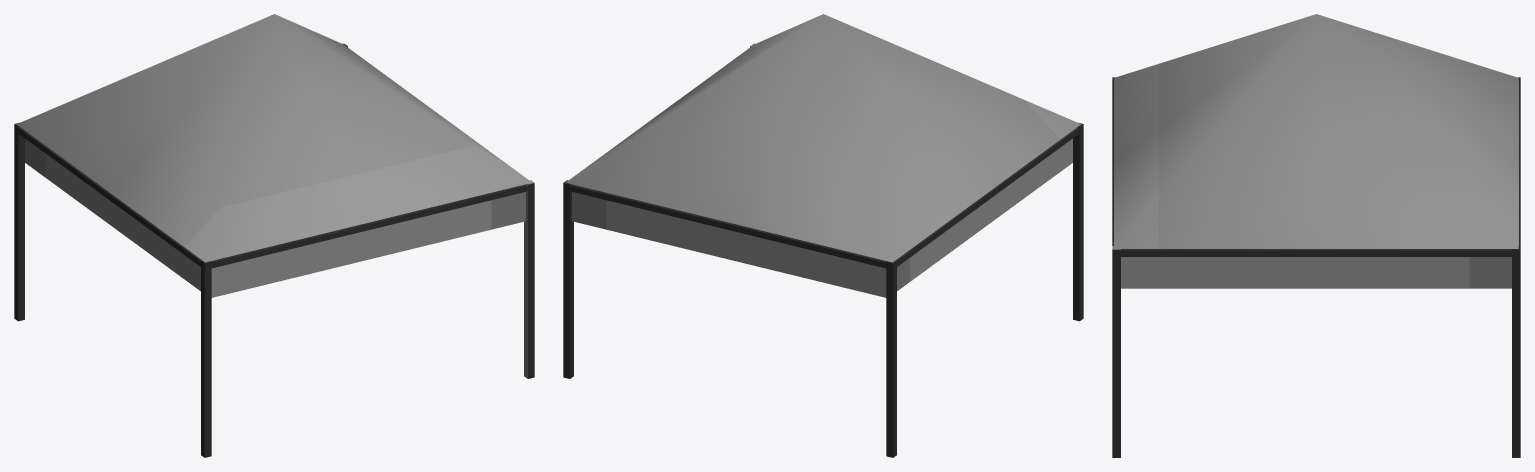
The model's file is carpaDescubierta.glb.
3 views of the same model, side by side, from view 1: azimuth 30°, elevation 25°; view 2: azimuth 150°, elevation 25°; view 3: azimuth 270°, elevation 25° (orthographic). The views are drawn at different scales.
Parts seen in each view (by area): view 1: CarpaDescubierta; view 2: CarpaDescubierta; view 3: CarpaDescubierta.
Part boxes in pixels (left/top/right/bottom): CarpaDescubierta: left=14, top=14, right=534, bottom=457; CarpaDescubierta: left=563, top=14, right=1083, bottom=457; CarpaDescubierta: left=1112, top=14, right=1520, bottom=457.
Bounding box in the file's own units: 4.18 × 4.04 × 4.18.
1 material, 1 textured.
